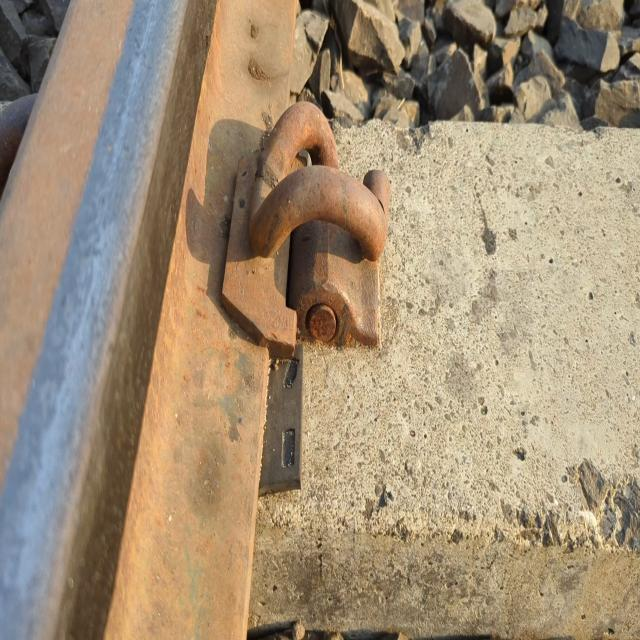overrailed: (241, 84, 414, 395)
